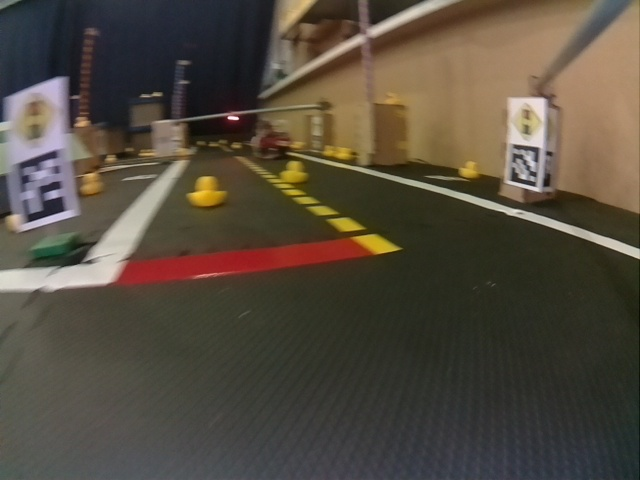Duckie: (188, 177, 228, 207), (281, 161, 310, 183), (81, 173, 104, 194), (463, 161, 478, 179), (73, 116, 90, 128), (337, 146, 350, 159), (384, 93, 396, 105), (323, 144, 332, 158), (139, 149, 149, 159), (106, 153, 114, 162), (210, 140, 217, 148), (234, 142, 241, 149)
QR code: (10, 153, 73, 219), (507, 145, 543, 190)
Signal sign: (12, 91, 61, 147), (512, 102, 544, 139)
